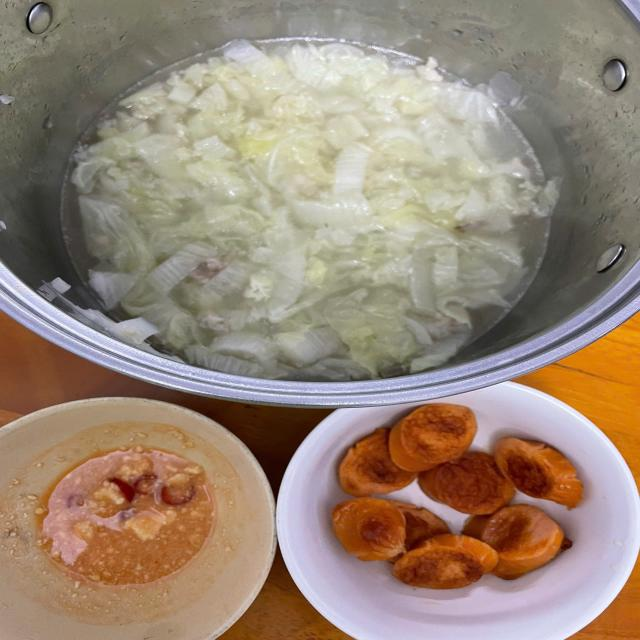70: (334, 404, 606, 616)
canhcaitrang: (22, 24, 619, 367)
